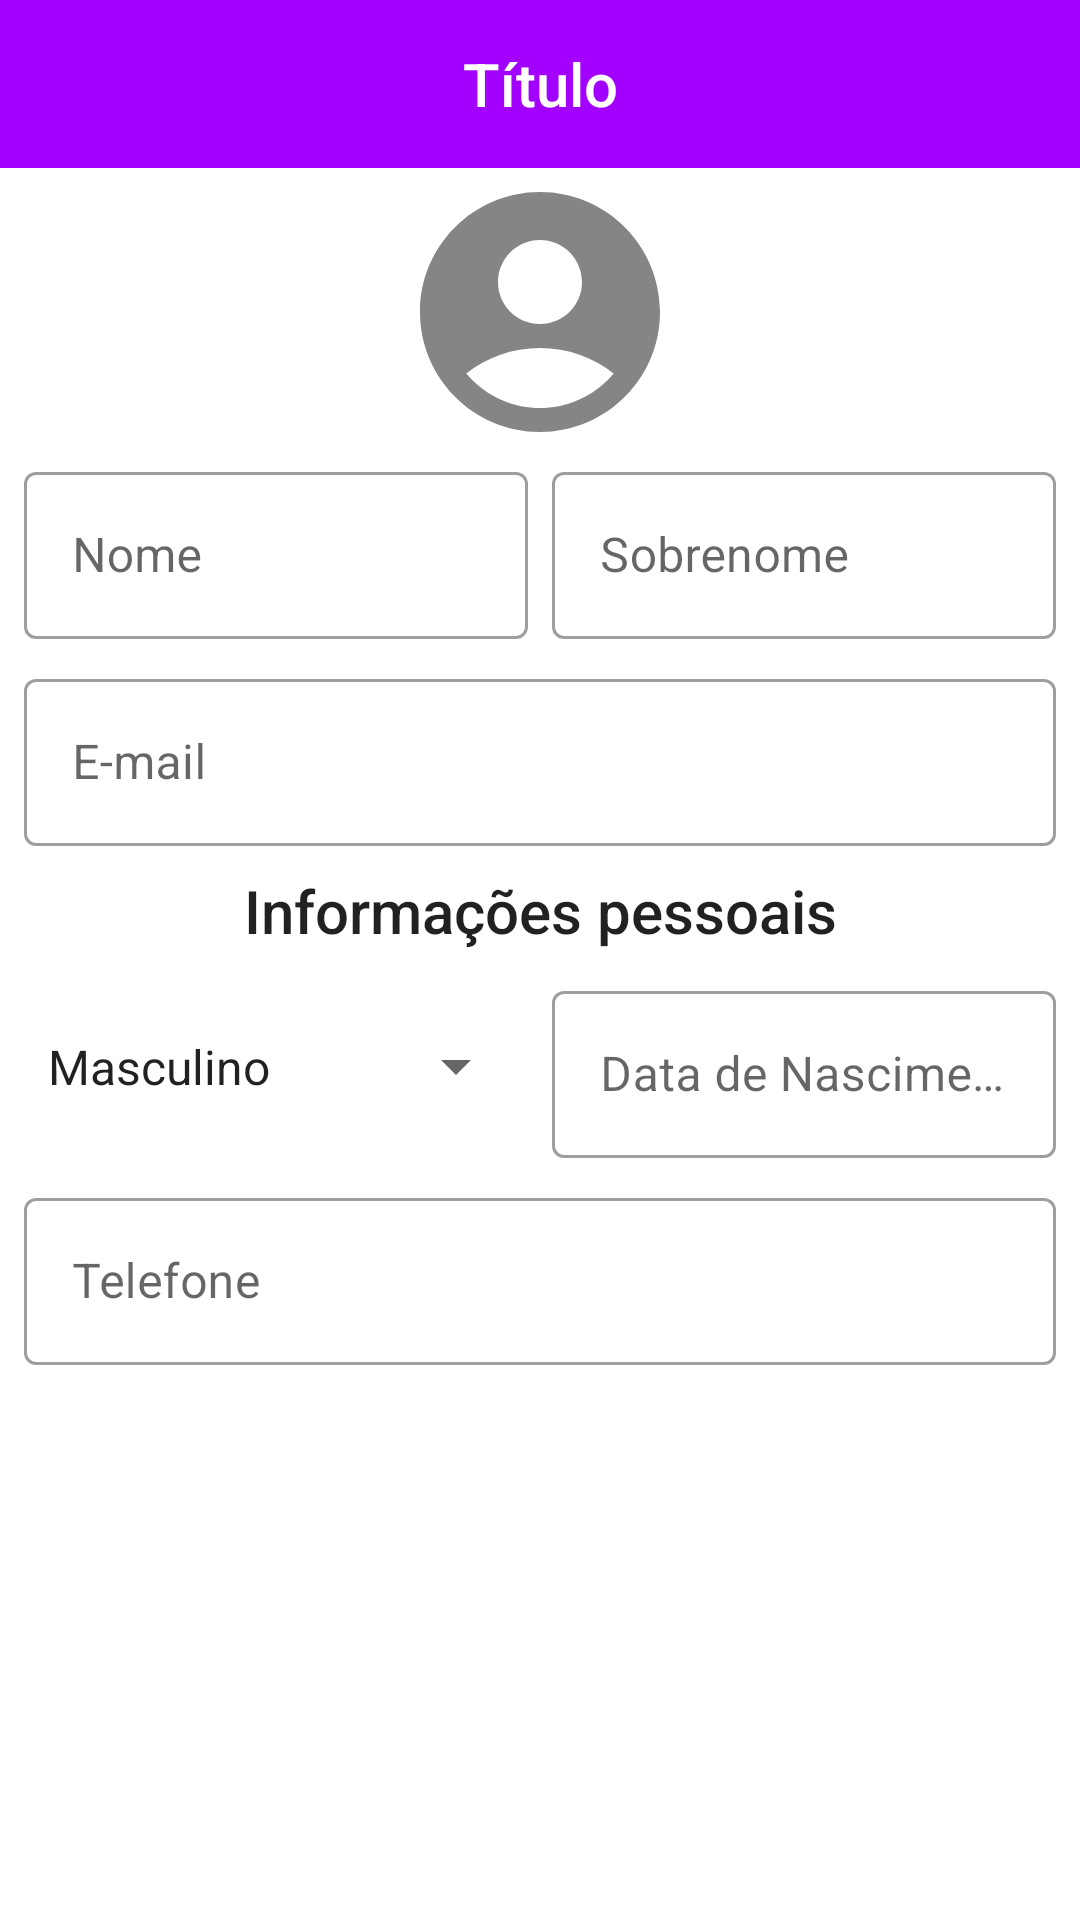

Icon bounding boxes for this 1080×1920 phone screenshot, format (x1, y1, x2, y2):
account: (420, 192, 660, 432)
